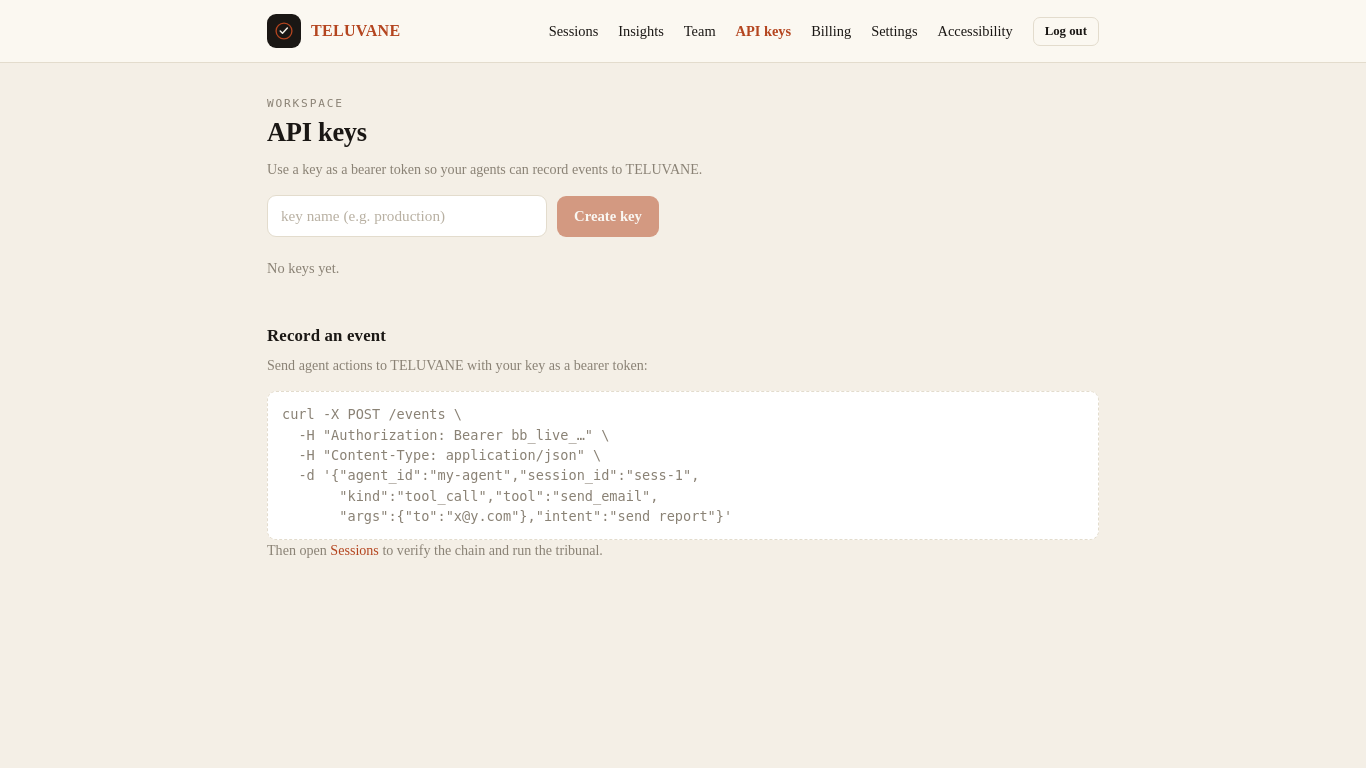
Test: KeysPage › shows the created key once and lets the user create a new one
Expected: the text "No keys yet." is shown, [267,260,339,276]
In the field with placeholder "key name (e.g. production)": coordinates (407, 216) [267,195,547,237], type "staging"
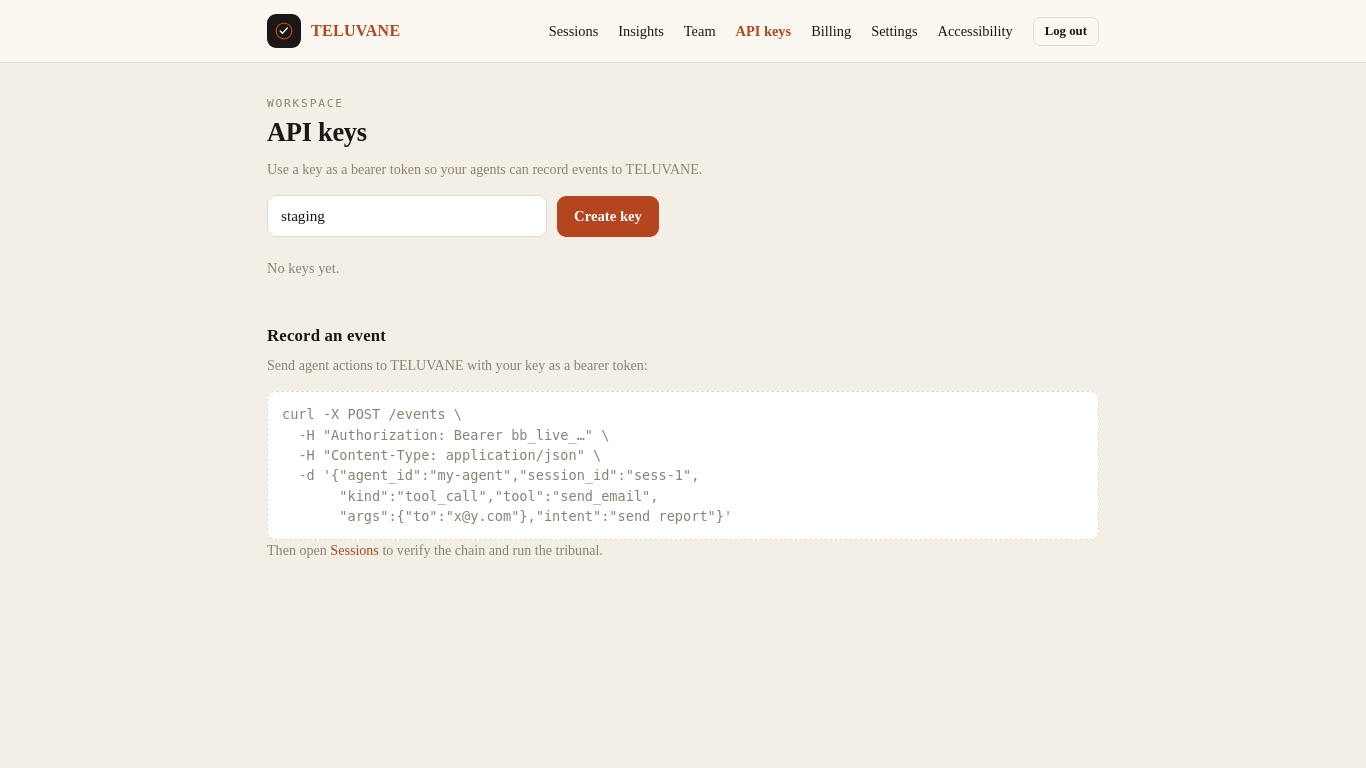
Click the button "Create key": coordinates (608, 216) [557,196,659,237]
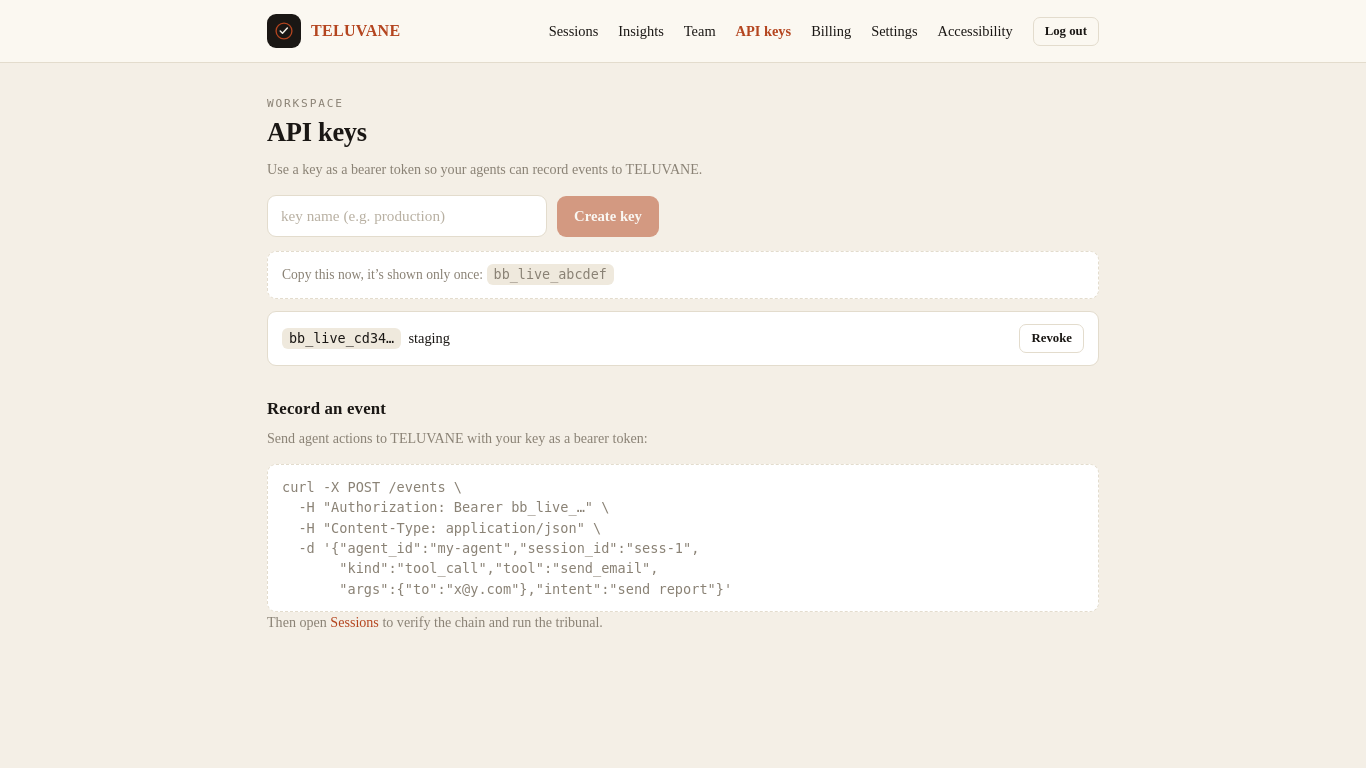
Now the text "bb_live_abcdef" is shown, box [486,264,614,285]
